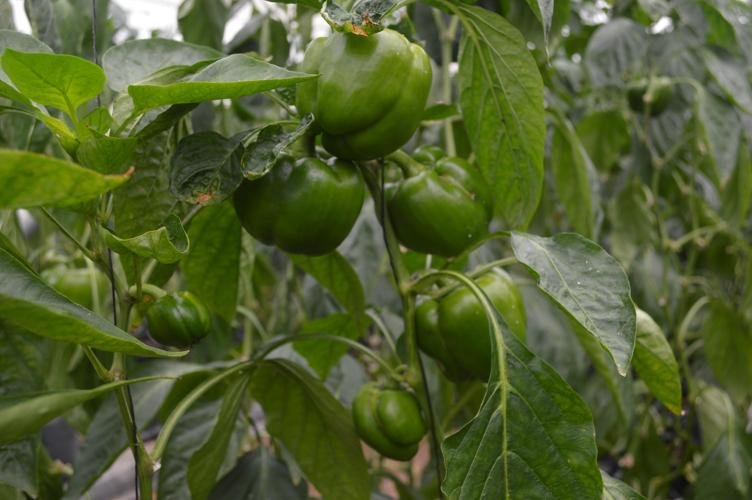BellPepper: (281, 26, 453, 161), (221, 135, 374, 256), (376, 159, 508, 271), (403, 286, 541, 387), (336, 385, 442, 471), (136, 285, 218, 348)
